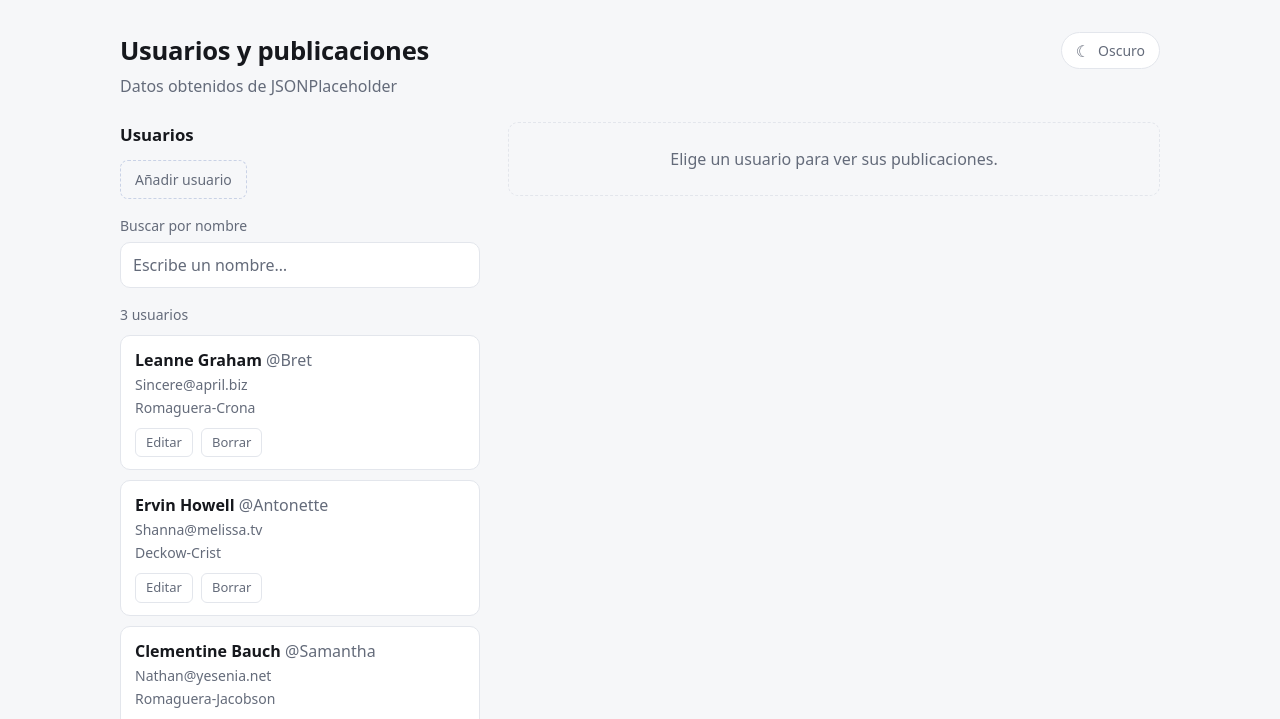
Test: App › un fallo al cargar publicaciones no tumba la lista de usuarios
Click the button with aria-label "ver publicaciones de leanne graham" at [198, 360], box [135,348,465,418]
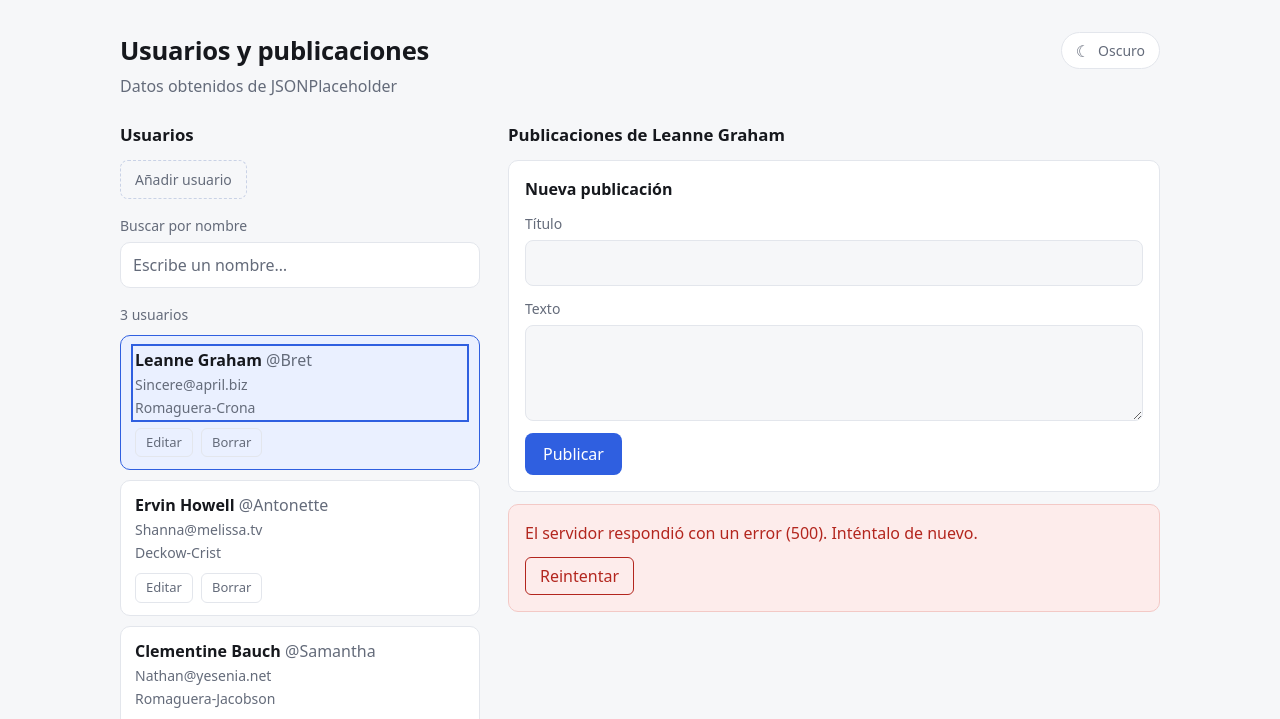
Expected: the button with aria-label "ver publicaciones de ervin howell" is shown, [135,493,465,563]
Expected: the message shows "(500)", [525,522,978,544]
